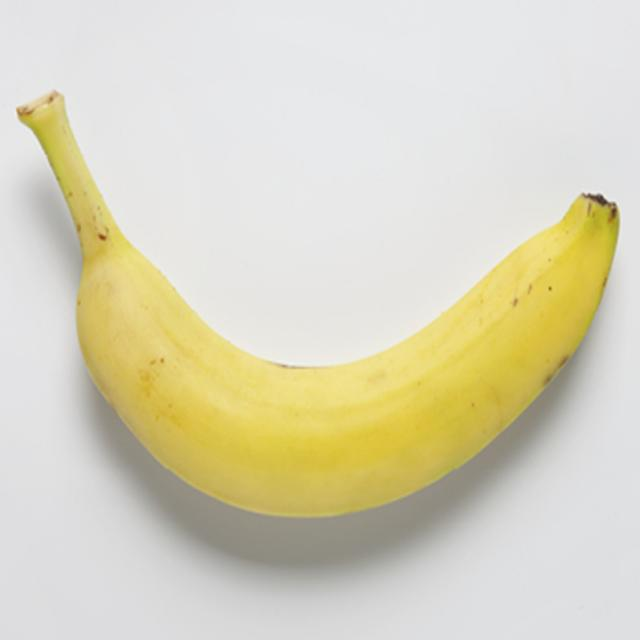Banana: (19, 93, 618, 520)
